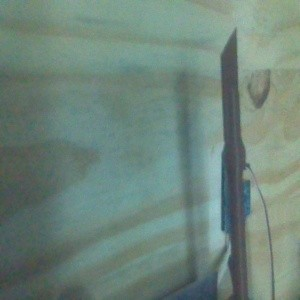cutter: (220, 26, 250, 300)
